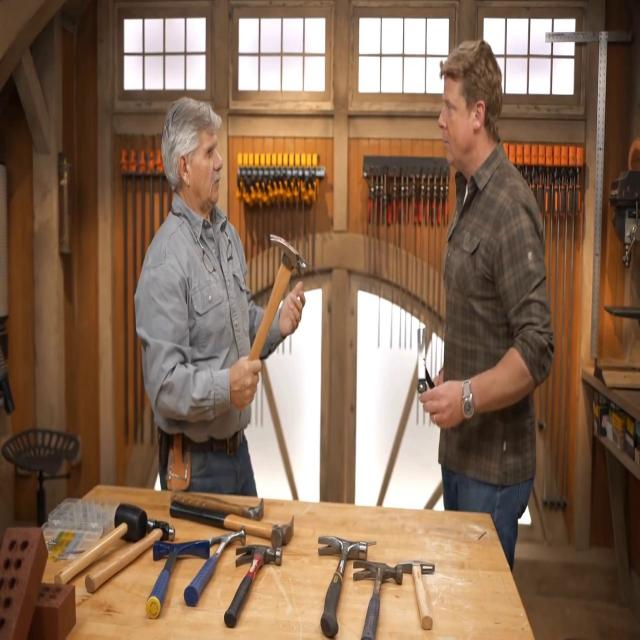hammer: (246, 236, 306, 362), (56, 505, 148, 583), (84, 519, 175, 593), (170, 501, 295, 546), (146, 540, 210, 621), (318, 536, 368, 636), (186, 528, 247, 606), (352, 558, 404, 640), (401, 561, 434, 626), (226, 570, 251, 626), (417, 327, 434, 389)
